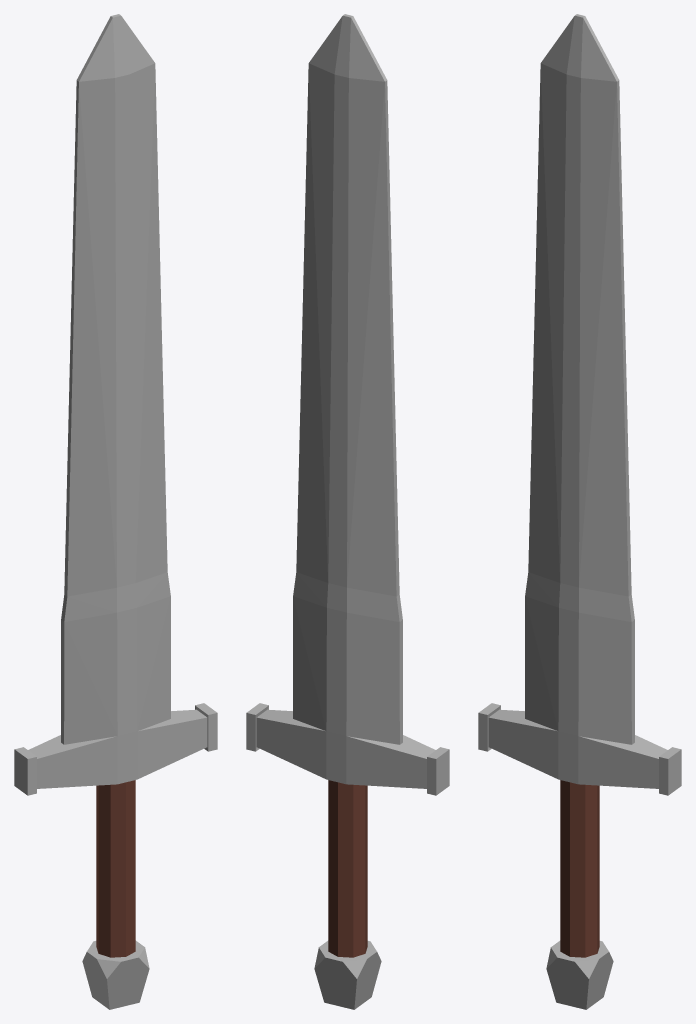
File: Short sword.fbx
3 views of the same model, side by side, from view 1: azimuth 30°, elevation 25°; view 2: azimuth 150°, elevation 25°; view 3: azimuth 330°, elevation 25° (orthographic).
Visible parts, largest first — view 1: Short sword; view 2: Short sword; view 3: Short sword.
Part boxes in pixels (box(x1,y1,x2,y2)): Short sword: box(14, 14, 217, 1009); Short sword: box(246, 14, 449, 1009); Short sword: box(478, 14, 681, 1009).
Size of the model in its own units: 0.1636 by 0.8109 by 0.0416.
